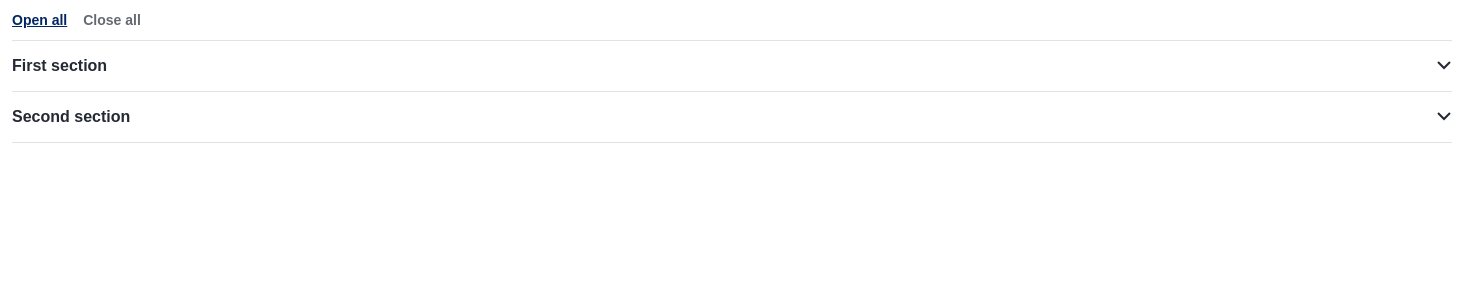
Test: Accordion › opens all, closes all and moves focus to the opposite group control
Click the button named "Open all guidance sections": (40, 20) [12, 12, 67, 28]
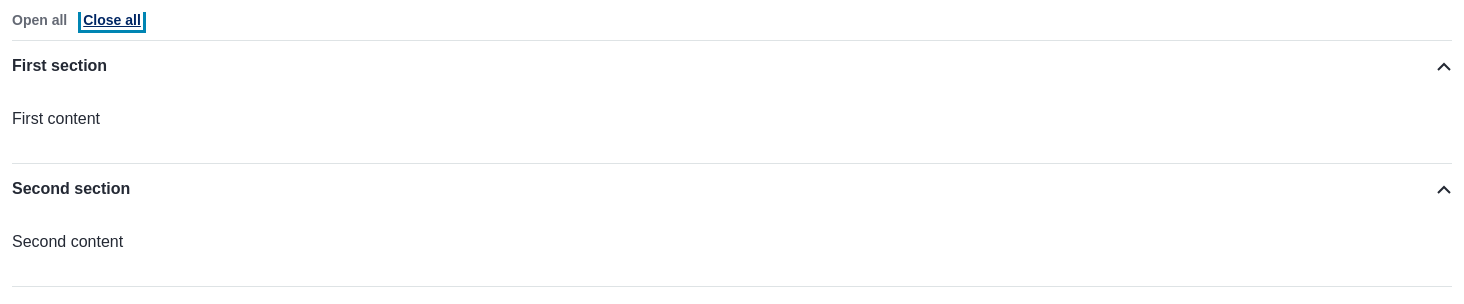
Expected: the button "First section" is expanded, [12, 41, 1452, 91]
Expected: the button "Second section" is expanded, [12, 164, 1452, 214]
Click the button named "Close all guidance sections": (112, 20) [83, 12, 141, 28]
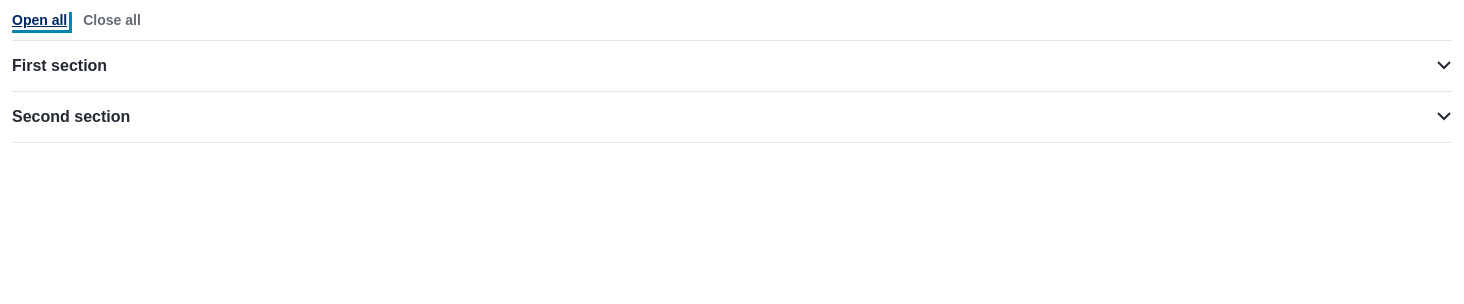
Expected: the button "First section" is collapsed, [12, 41, 1452, 91]
Expected: the button "Second section" is collapsed, [12, 92, 1452, 142]
